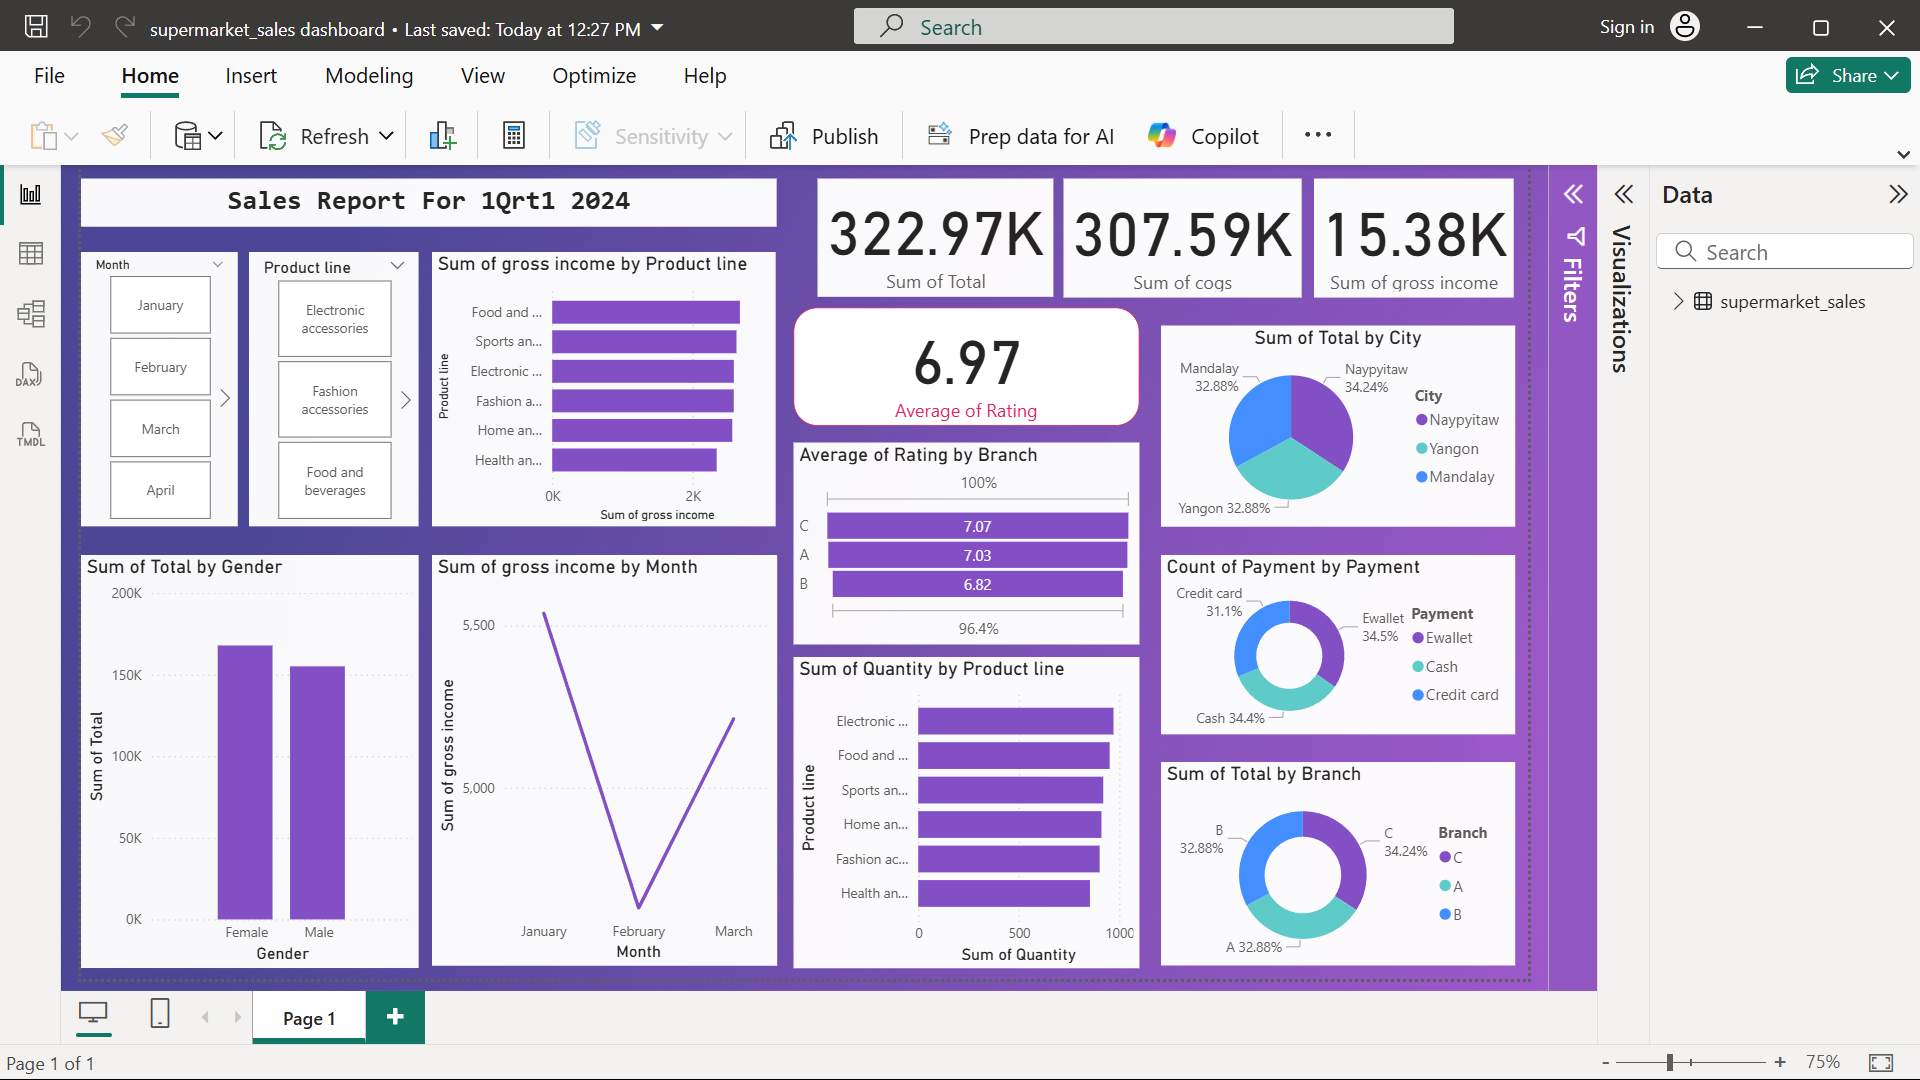

The page's visual inventory and layout, read from the dashboard file:
{"tool":"powerbi","page":{"name":"Page 1","canvas":[1280,720],"ordinal":0},"visuals":[{"type":"lineChart","fields":{"Category":["supermarket_sales.Date.Variation.Date Hierarchy.Year","supermarket_sales.Date.Variation.Date Hierarchy.Quarter","supermarket_sales.Date.Variation.Date Hierarchy.Month","supermarket_sales.Date.Variation.Date Hierarchy.Day"],"Y":["Sum(supermarket_sales.gross income)"]},"box":[310,345,305,363.3],"z":0},{"type":"card","fields":{"Values":["Sum(supermarket_sales.Total)"]},"box":[651.1,12.1,209,104.5],"z":1000},{"type":"card","fields":{"Values":["Sum(supermarket_sales.cogs)"]},"box":[869.6,11.7,210.5,105.2],"z":2000},{"type":"card","fields":{"Values":["Sum(supermarket_sales.gross income)"]},"box":[1090.3,11.7,176.8,105.2],"z":3000},{"type":"clusteredBarChart","fields":{"Category":["supermarket_sales.Product line"],"Y":["Sum(supermarket_sales.gross income)"]},"box":[310,77.1,304.3,242.9],"z":4000},{"type":"pieChart","fields":{"Y":["Sum(supermarket_sales.Total)"],"Category":["supermarket_sales.City"]},"box":[954.9,141.5,313.4,178],"z":5000},{"type":"donutChart","fields":{"Category":["supermarket_sales.Branch"],"Y":["Sum(supermarket_sales.Total)"]},"box":[955,528.3,313.3,180],"z":6000},{"type":"columnChart","fields":{"Y":["Sum(supermarket_sales.Total)"],"Category":["supermarket_sales.Gender"]},"box":[0,345,298.3,365],"z":7000},{"type":"donutChart","fields":{"Y":["CountNonNull(supermarket_sales.Payment)"],"Category":["supermarket_sales.Payment"]},"box":[955,345,313.3,158.3],"z":8000},{"type":"clusteredBarChart","fields":{"Category":["supermarket_sales.Product line"],"Y":["Sum(supermarket_sales.Quantity)"]},"box":[629.9,434.6,305.9,275.6],"z":9000},{"type":"slicer","fields":{"Values":["supermarket_sales.Date.Variation.Date Hierarchy.Month"]},"box":[0,77.1,138.6,242.9],"z":10000},{"type":"slicer","fields":{"Values":["supermarket_sales.Product line"]},"box":[148.6,77.1,150,242.9],"z":11000},{"type":"funnel","fields":{"Category":["supermarket_sales.Branch"],"Y":["Avg(supermarket_sales.Rating)"]},"box":[629.9,245.3,305.9,178.7],"z":12000},{"type":"textbox","box":[0,11.7,615.3,42.4],"z":13000},{"type":"card","fields":{"Values":["Avg(supermarket_sales.Rating)"]},"box":[629.9,125.7,305.9,104.5],"z":14000}]}

Visuals, with their boxes on the page's 1280x720 design canvas (x1, y1, x2, y2). These are canvas units, not pixel positions in the 1920x1080 screenshot, which may show the page scaled, cropped or inside an application window:
lineChart - supermarket_sales.Date.Variation.Date Hierarchy.Year x supermarket_sales.Date.Variation.Date Hierarchy.Quarter: l=310, t=345, r=615, b=708
card - Sum(supermarket_sales.Total): l=651, t=12, r=860, b=117
card - Sum(supermarket_sales.cogs): l=870, t=12, r=1080, b=117
card - Sum(supermarket_sales.gross income): l=1090, t=12, r=1267, b=117
clusteredBarChart - supermarket_sales.Product line x Sum(supermarket_sales.gross income): l=310, t=77, r=614, b=320
pieChart - Sum(supermarket_sales.Total) x supermarket_sales.City: l=955, t=142, r=1268, b=320
donutChart - supermarket_sales.Branch x Sum(supermarket_sales.Total): l=955, t=528, r=1268, b=708
columnChart - Sum(supermarket_sales.Total) x supermarket_sales.Gender: l=0, t=345, r=298, b=710
donutChart - CountNonNull(supermarket_sales.Payment) x supermarket_sales.Payment: l=955, t=345, r=1268, b=503
clusteredBarChart - supermarket_sales.Product line x Sum(supermarket_sales.Quantity): l=630, t=435, r=936, b=710
slicer - supermarket_sales.Date.Variation.Date Hierarchy.Month: l=0, t=77, r=139, b=320
slicer - supermarket_sales.Product line: l=149, t=77, r=299, b=320
funnel - supermarket_sales.Branch x Avg(supermarket_sales.Rating): l=630, t=245, r=936, b=424
textbox: l=0, t=12, r=615, b=54
card - Avg(supermarket_sales.Rating): l=630, t=126, r=936, b=230
